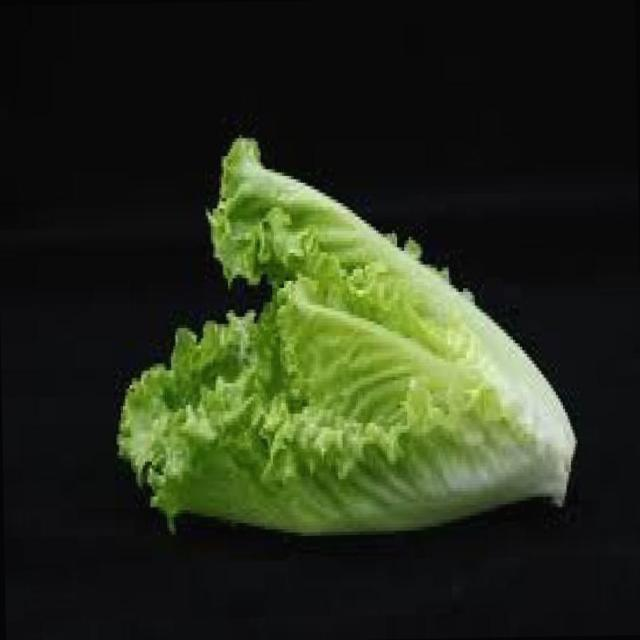Lettuce-Ready-to-Harvest: (119, 138, 575, 533)
